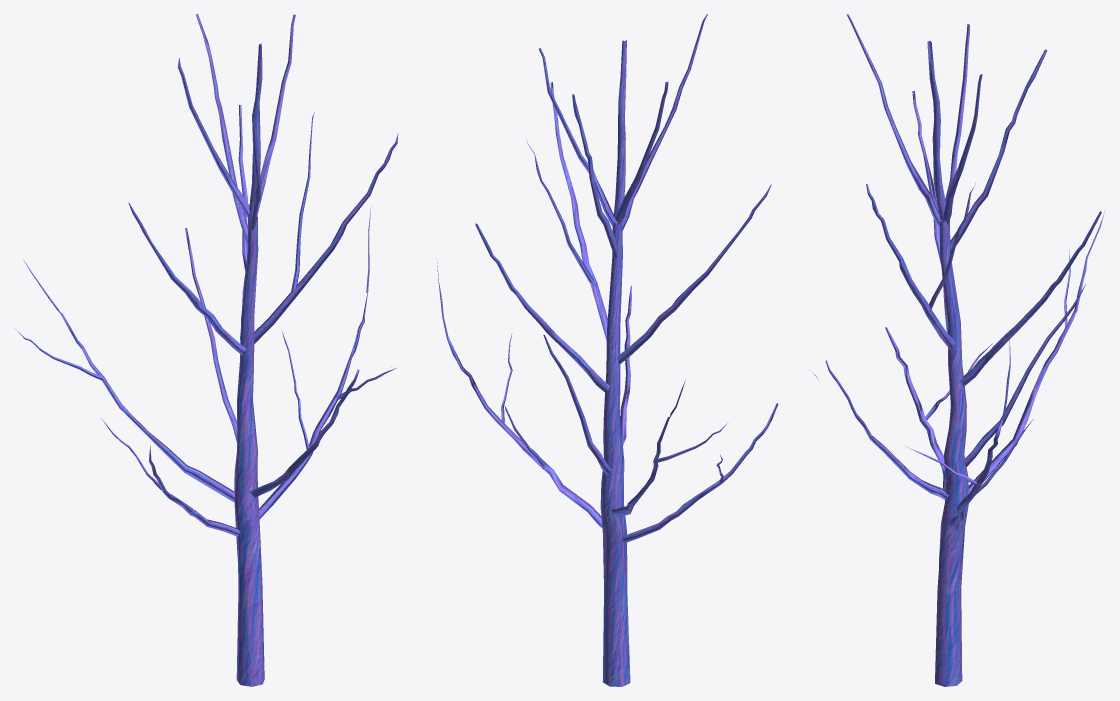
The model's file is Presid_Tree_trunkB3.FBX.
The picture shows the model from 3 angles, left to right: view 1: azimuth 30°, elevation 25°; view 2: azimuth 150°, elevation 25°; view 3: azimuth 270°, elevation 25°; orthographic projection.
Parts seen in each view (by area): view 1: Presid_Tree_trunkB3; view 2: Presid_Tree_trunkB3; view 3: Presid_Tree_trunkB3.
Boxes of the visible parts, x1=… form: Presid_Tree_trunkB3: x1=14, y1=14, x2=398, y2=686; Presid_Tree_trunkB3: x1=437, y1=14, x2=778, y2=686; Presid_Tree_trunkB3: x1=809, y1=14, x2=1105, y2=686.
Bounding box in the file's own units: 3.68 × 6.98 × 2.92.
